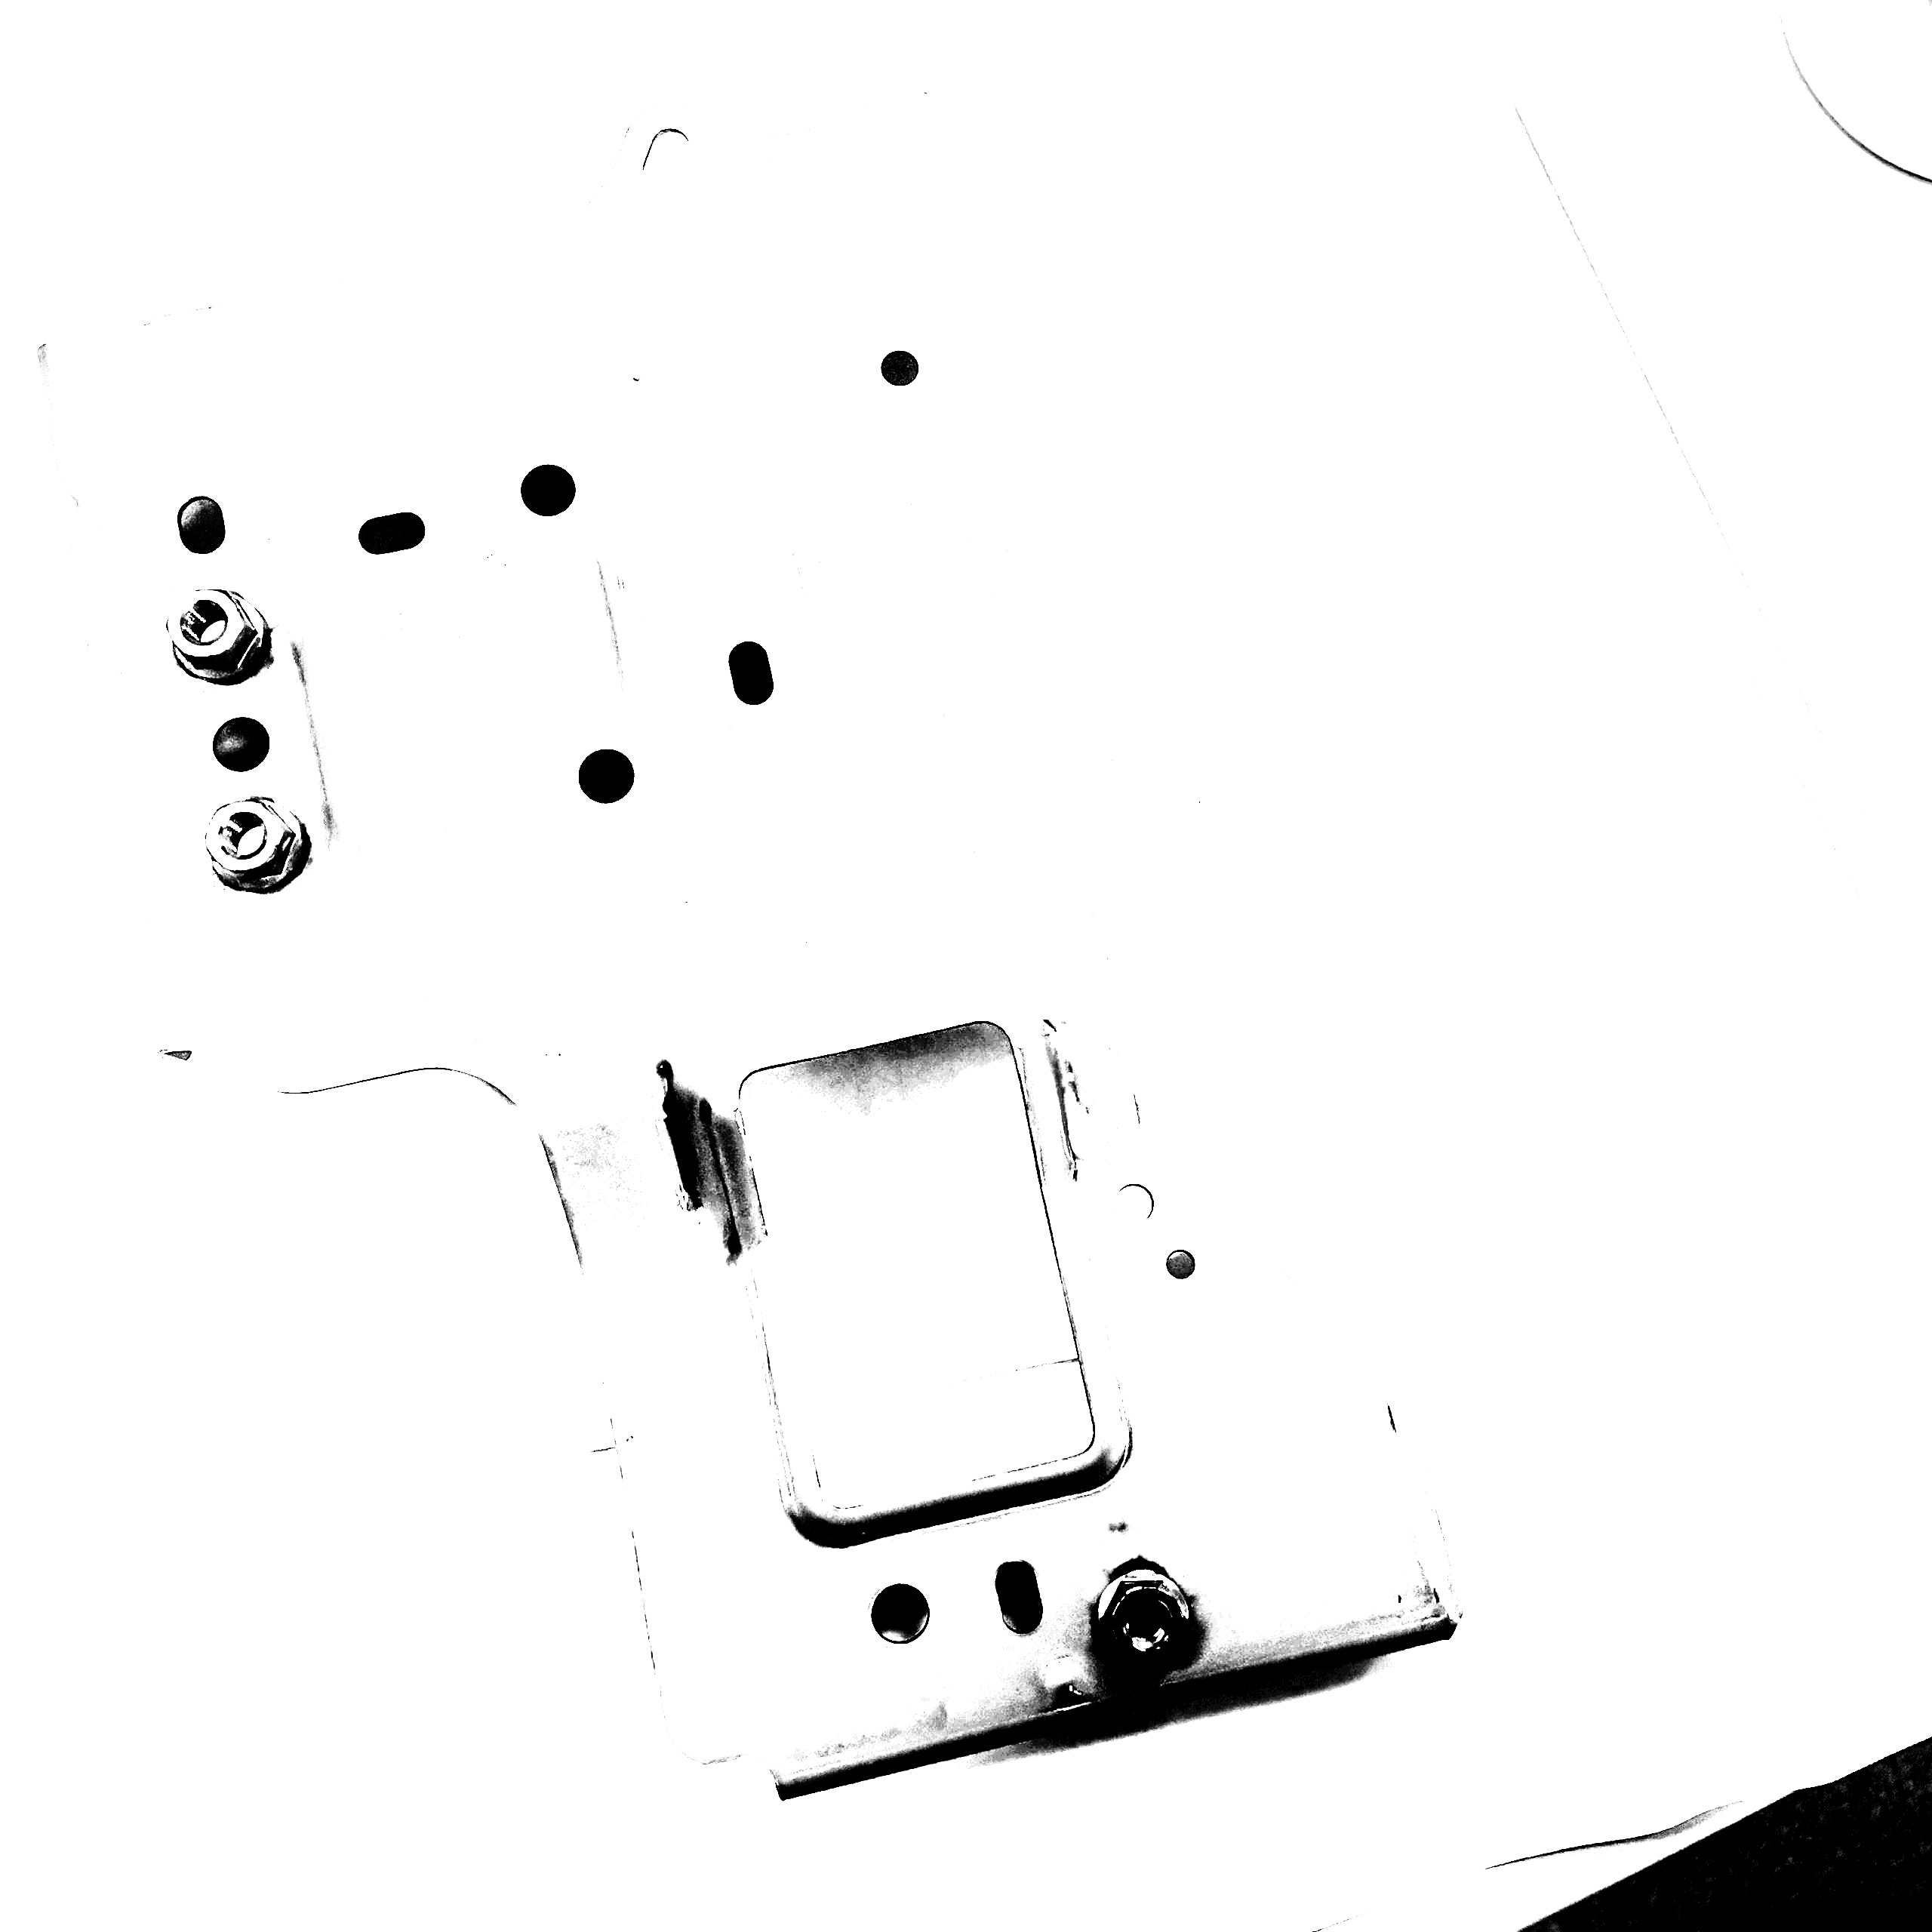dog: (1086, 1548, 1201, 1681), (163, 577, 274, 688), (196, 787, 308, 893)
